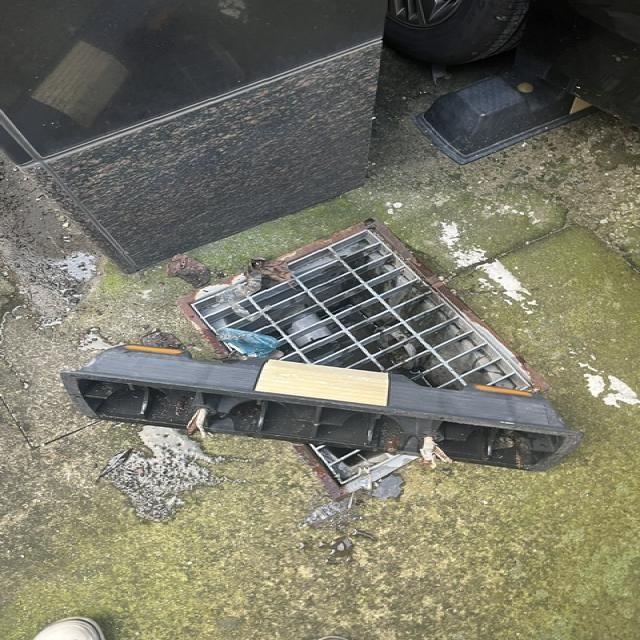drain_area: (191, 230, 534, 391), (311, 444, 398, 485)
drain_full: (191, 228, 532, 486)
